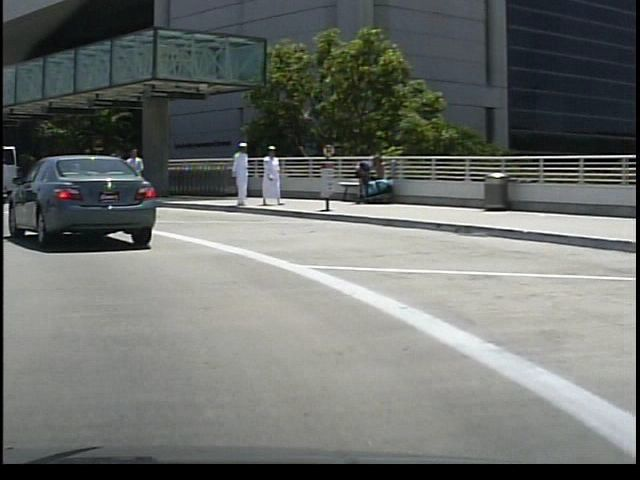person: (222, 138, 253, 214), (116, 142, 146, 219), (255, 142, 282, 206)
